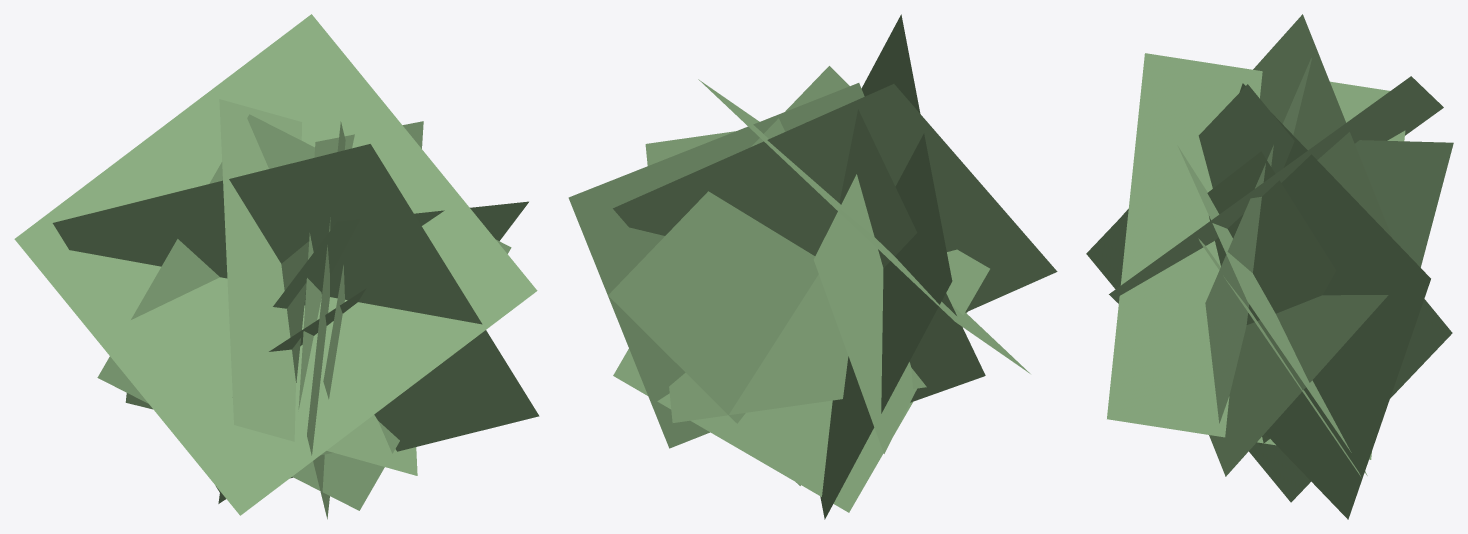
The model's file is touffe_photinia.glb.
The picture shows the model from 3 angles, left to right: view 1: azimuth 30°, elevation 25°; view 2: azimuth 150°, elevation 25°; view 3: azimuth 270°, elevation 25°; orthographic projection. The views are drawn at different scales.
Parts seen in each view (by area): view 1: touffe_photinia; view 2: touffe_photinia; view 3: touffe_photinia.
Part boxes in pixels (box(x1,y1,x2,y2)): touffe_photinia: box(14, 14, 539, 519); touffe_photinia: box(568, 14, 1057, 519); touffe_photinia: box(1086, 14, 1453, 519).
Bounding box in the file's own units: 0.9234 × 0.9556 × 0.7102.
